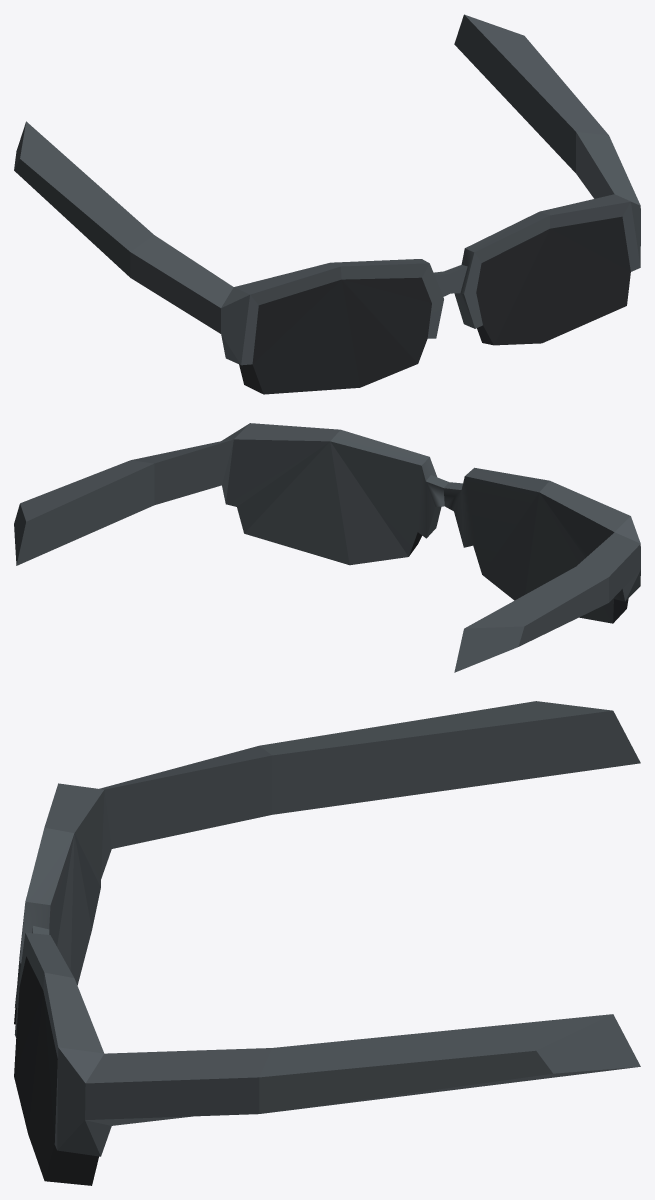
Rendered from SM_Chr_Attach_SunGlasses_01.fbx.
The picture shows the model from 3 angles, top to bottom: view 1: azimuth 30°, elevation 25°; view 2: azimuth 150°, elevation 25°; view 3: azimuth 270°, elevation 25°; orthographic projection. The views are drawn at different scales.
Parts seen in each view (by area): view 1: SM_Chr_Attach_SunGlasses_01; view 2: SM_Chr_Attach_SunGlasses_01; view 3: SM_Chr_Attach_SunGlasses_01.
Part boxes in pixels (x1,y1,x2,y2): SM_Chr_Attach_SunGlasses_01: [14, 14, 640, 394]; SM_Chr_Attach_SunGlasses_01: [14, 423, 640, 672]; SM_Chr_Attach_SunGlasses_01: [14, 701, 640, 1185].
Size of the model in its own units: 24.5 by 7.02 by 18.56.
